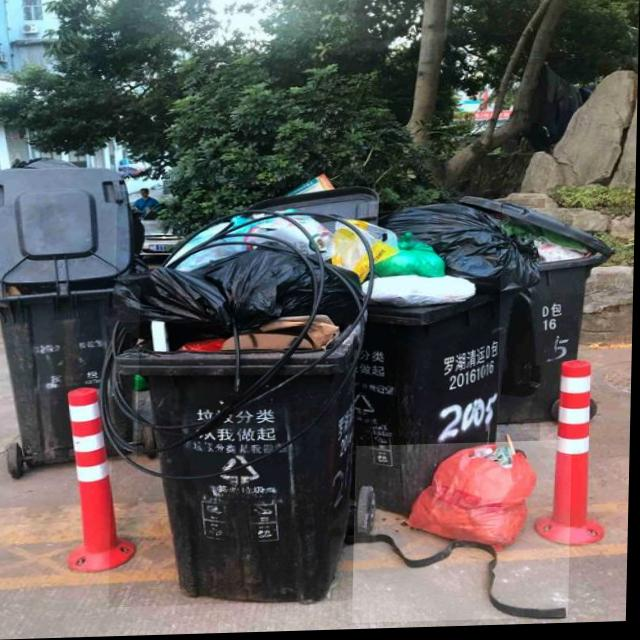garbage: (355, 443, 574, 626)
garbage_bin: (0, 287, 142, 462)
overflow: (111, 186, 373, 608), (353, 202, 547, 521), (499, 210, 614, 426)
